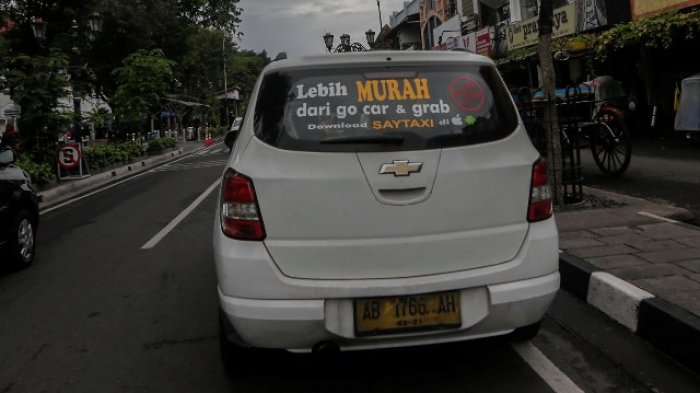plate: (354, 291, 459, 335)
